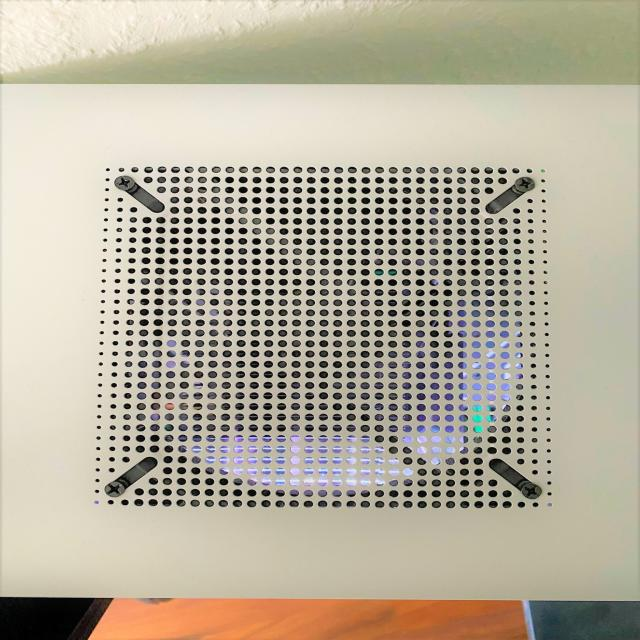PhillipsScrewHead: (102, 480, 128, 498), (512, 175, 536, 192), (520, 482, 542, 499), (113, 174, 135, 190)
